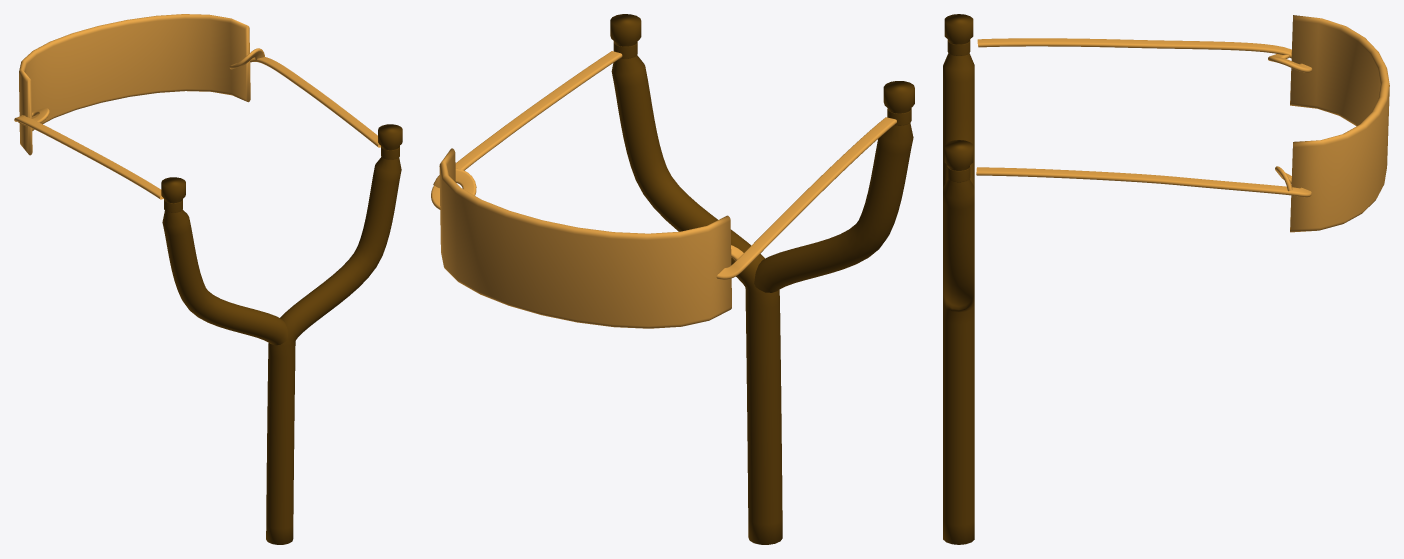
Rendered from Slingshot.fbx.
3 views of the same model, side by side, from view 1: azimuth 30°, elevation 25°; view 2: azimuth 150°, elevation 25°; view 3: azimuth 270°, elevation 25° (orthographic). The views are drawn at different scales.
Parts seen in each view (by area): view 1: rubber, body; view 2: rubber, body; view 3: rubber, body.
Part boxes in pixels (left/top/right/bottom): rubber: left=14, top=14, right=380, bottom=199; body: left=161, top=124, right=402, bottom=544; rubber: left=431, top=51, right=896, bottom=328; body: left=610, top=14, right=914, bottom=544; rubber: left=976, top=15, right=1389, bottom=232; body: left=943, top=14, right=974, bottom=544.
Bounding box in the file's own units: 153 × 224 × 197.
